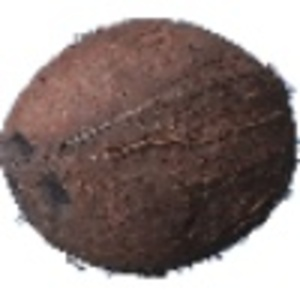coco: (1, 19, 300, 277)
